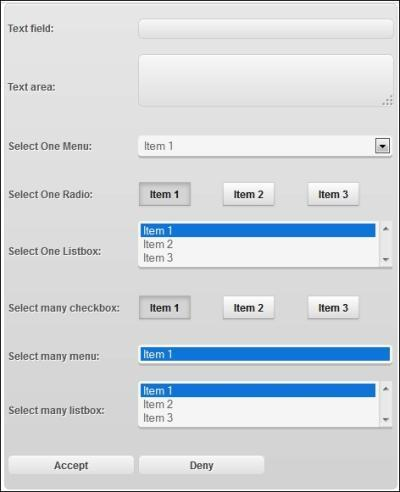button: (9, 455, 136, 476), (139, 456, 267, 476), (137, 295, 195, 323), (307, 295, 363, 321), (138, 182, 194, 208), (305, 184, 364, 208), (225, 297, 278, 323), (224, 183, 278, 208)
dropdown: (138, 134, 394, 159)
input: (140, 18, 393, 40)
label: (9, 303, 123, 316), (8, 351, 102, 364), (7, 140, 95, 153), (9, 247, 103, 259), (9, 406, 107, 417), (9, 189, 94, 201), (7, 82, 57, 93), (7, 25, 57, 34)
